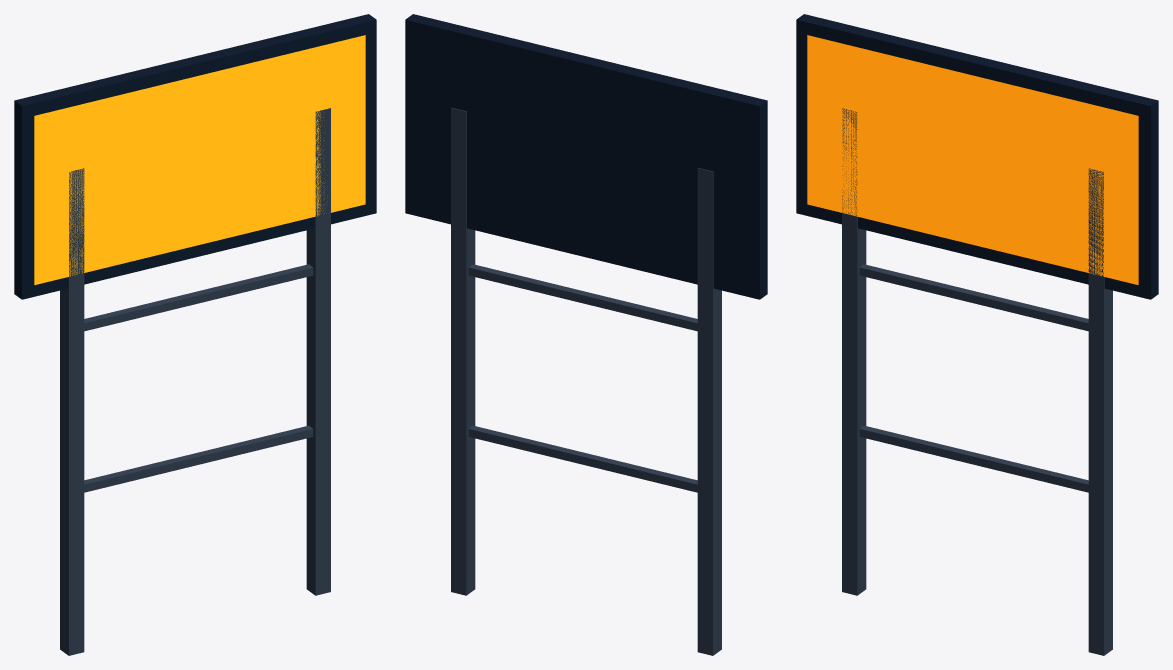
The model's file is liberty_billboard.glb.
3 views of the same model, side by side, from view 1: azimuth 30°, elevation 25°; view 2: azimuth 150°, elevation 25°; view 3: azimuth 330°, elevation 25° (orthographic).
Visible parts, largest first — view 1: LibertyBillboard; view 2: LibertyBillboard; view 3: LibertyBillboard.
Part boxes in pixels (x1=…): LibertyBillboard: x1=14, y1=14, x2=376, y2=655; LibertyBillboard: x1=405, y1=14, x2=767, y2=655; LibertyBillboard: x1=796, y1=14, x2=1158, y2=655.
Size of the model in its own units: 9.2 by 13.9 by 0.4.
